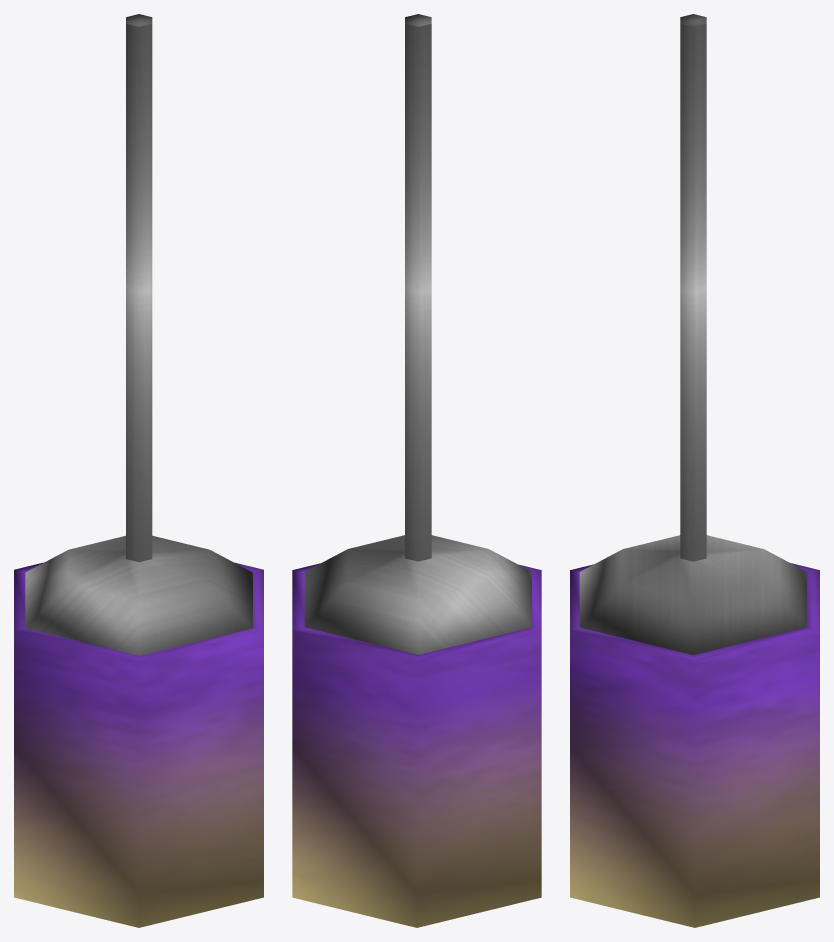
Rendered from Pendant_Light_D.FBX.
3 renders of one model, left to right at view 1: azimuth 30°, elevation 25°; view 2: azimuth 150°, elevation 25°; view 3: azimuth 270°, elevation 25°, orthographic.
Visible parts, largest first — view 1: Pendant light; view 2: Pendant light; view 3: Pendant light.
Boxes of the visible parts, box(x1,y1,x2,y2) form: Pendant light: box(14, 14, 263, 927); Pendant light: box(292, 14, 541, 927); Pendant light: box(570, 14, 819, 927).
Bounding box in the file's own units: 75.21 × 244 × 65.13.
